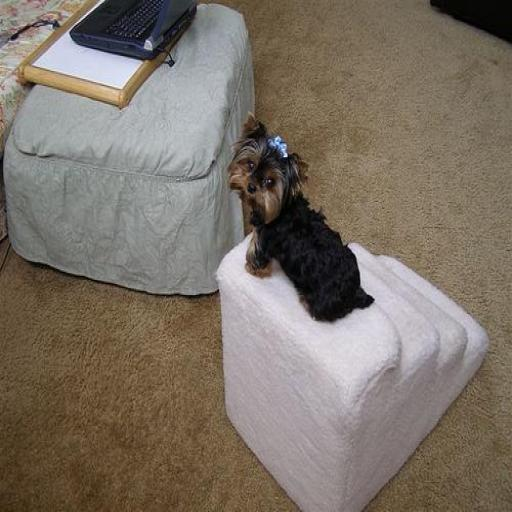dog_face: (228, 113, 304, 220)
